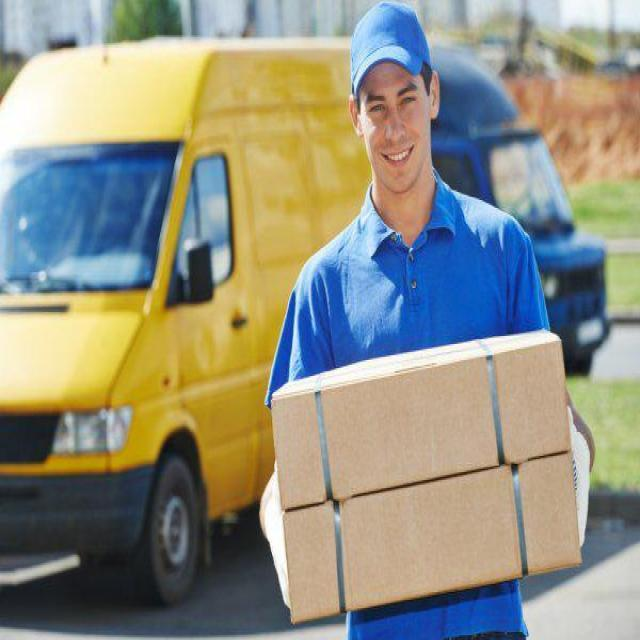box: (262, 306, 574, 498), (281, 453, 584, 639)
